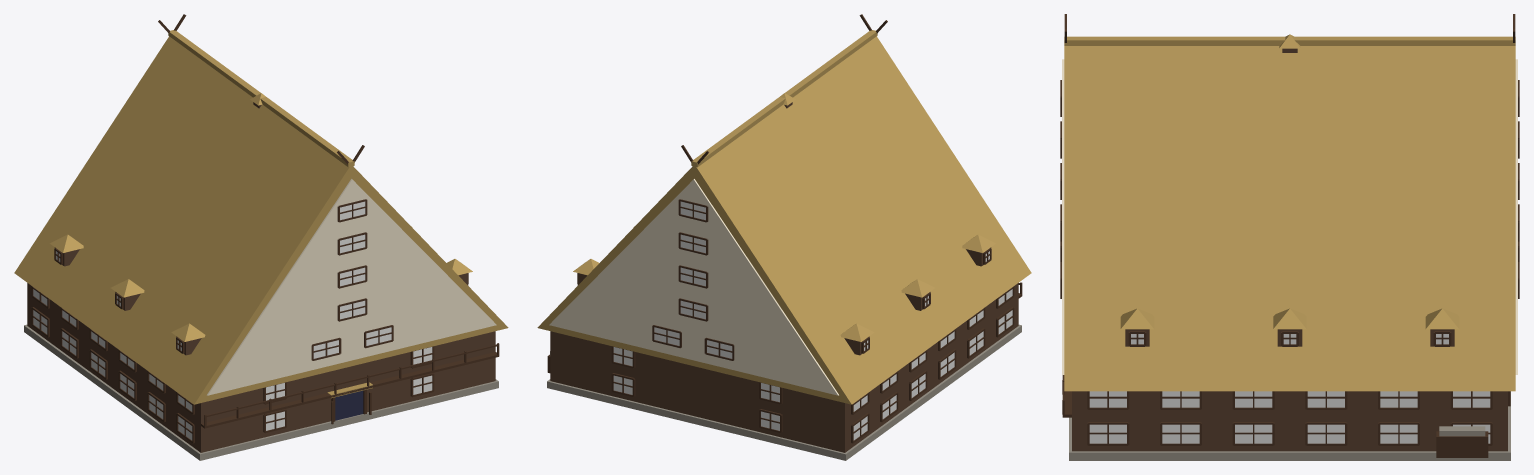
File: house-3x3-3f-gassho-a.glb
3 views of the same model, side by side, from view 1: azimuth 30°, elevation 25°; view 2: azimuth 150°, elevation 25°; view 3: azimuth 270°, elevation 25° (orthographic). The views are drawn at different scales.
Visible parts, largest first — view 1: house-3x3-3f-gassho-a; view 2: house-3x3-3f-gassho-a; view 3: house-3x3-3f-gassho-a.
Part boxes in pixels (bbox=[...]): house-3x3-3f-gassho-a: bbox=[14, 14, 508, 460]; house-3x3-3f-gassho-a: bbox=[537, 14, 1031, 460]; house-3x3-3f-gassho-a: bbox=[1060, 14, 1519, 460].
Size of the model in its own units: 3 by 2.52 by 3.01.
1 material, 1 textured.
